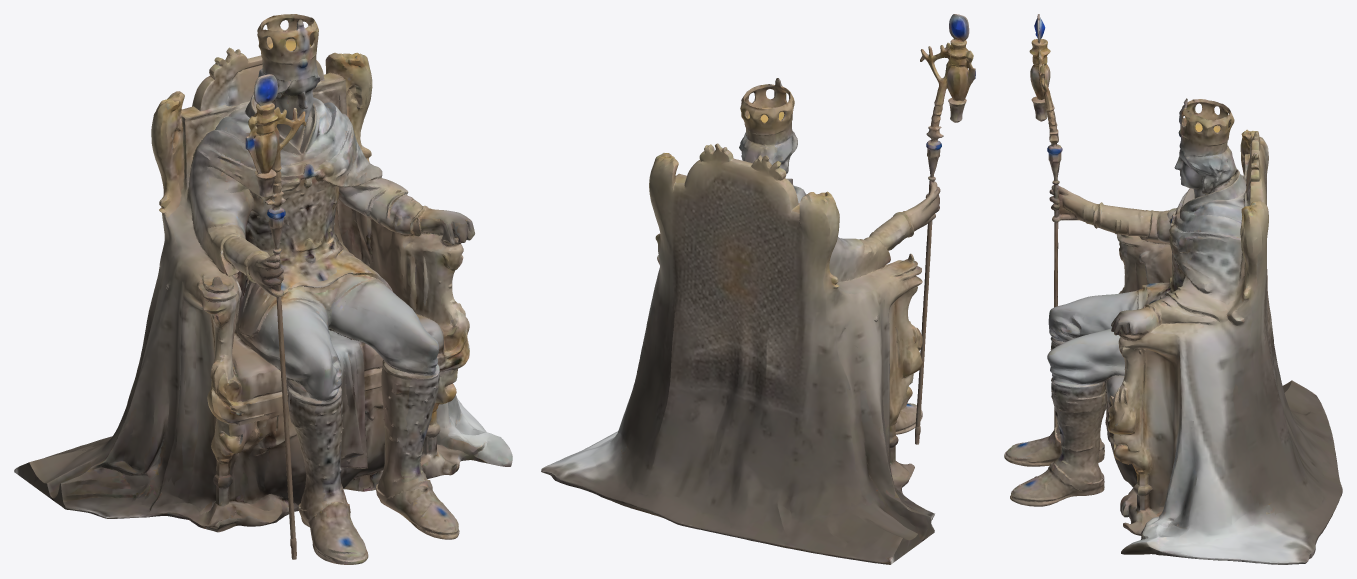
The model's file is king_white.glb.
3 renders of one model, left to right at view 1: azimuth 30°, elevation 25°; view 2: azimuth 150°, elevation 25°; view 3: azimuth 270°, elevation 25°, orthographic. The views are drawn at different scales.
Visible parts, largest first — view 1: model; view 2: model; view 3: model.
Part boxes in pixels (x1,y1,x2,y2): model: (14,14,512,564); model: (541,14,975,564); model: (1004,14,1342,564).
Size of the model in its own units: 1.64 by 1.9 by 1.39.
Materials: 1 (1 with a texture image).
